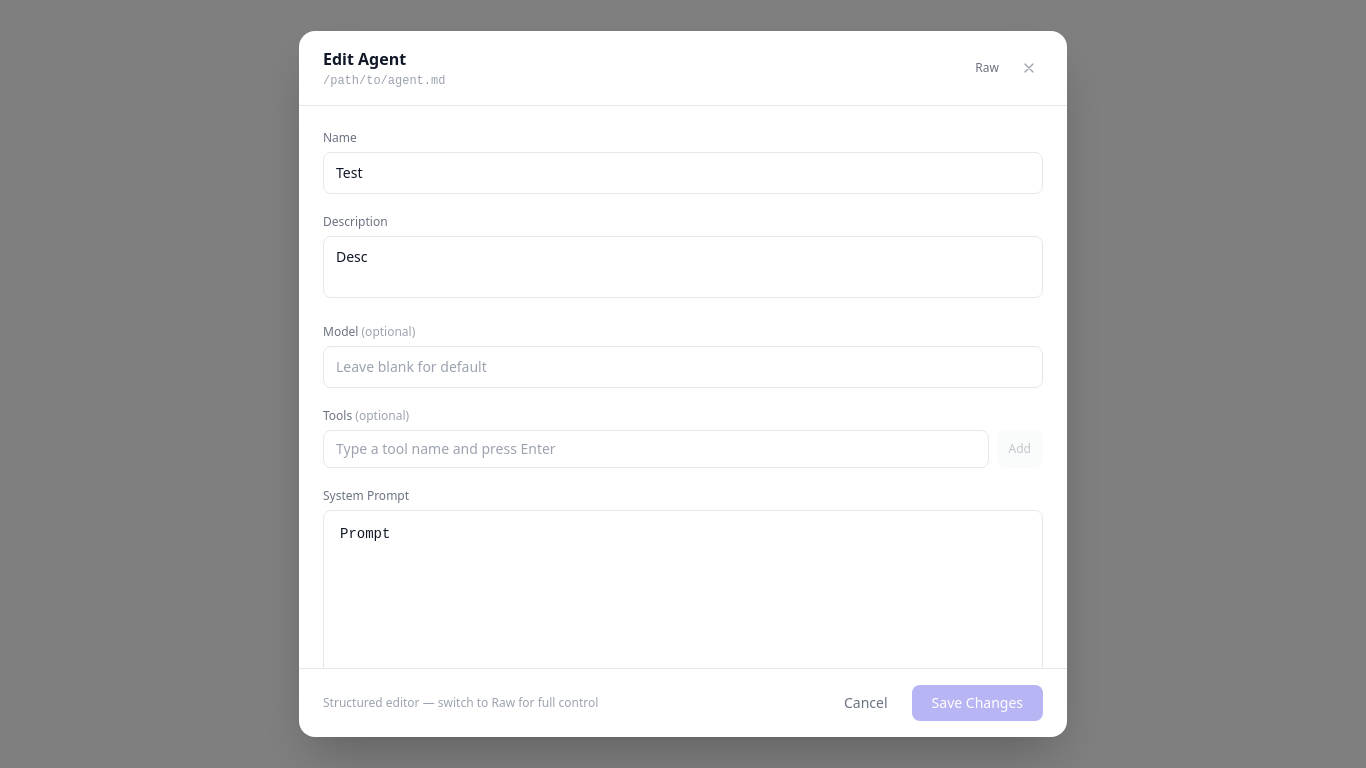
AgentEditor › can toggle between raw and structured mode
Check: the field showing "Test" is shown, box [323,152,1043,194]
Switch to raw
Click the button "Raw" at (987, 68), box [967,56,1007,80]
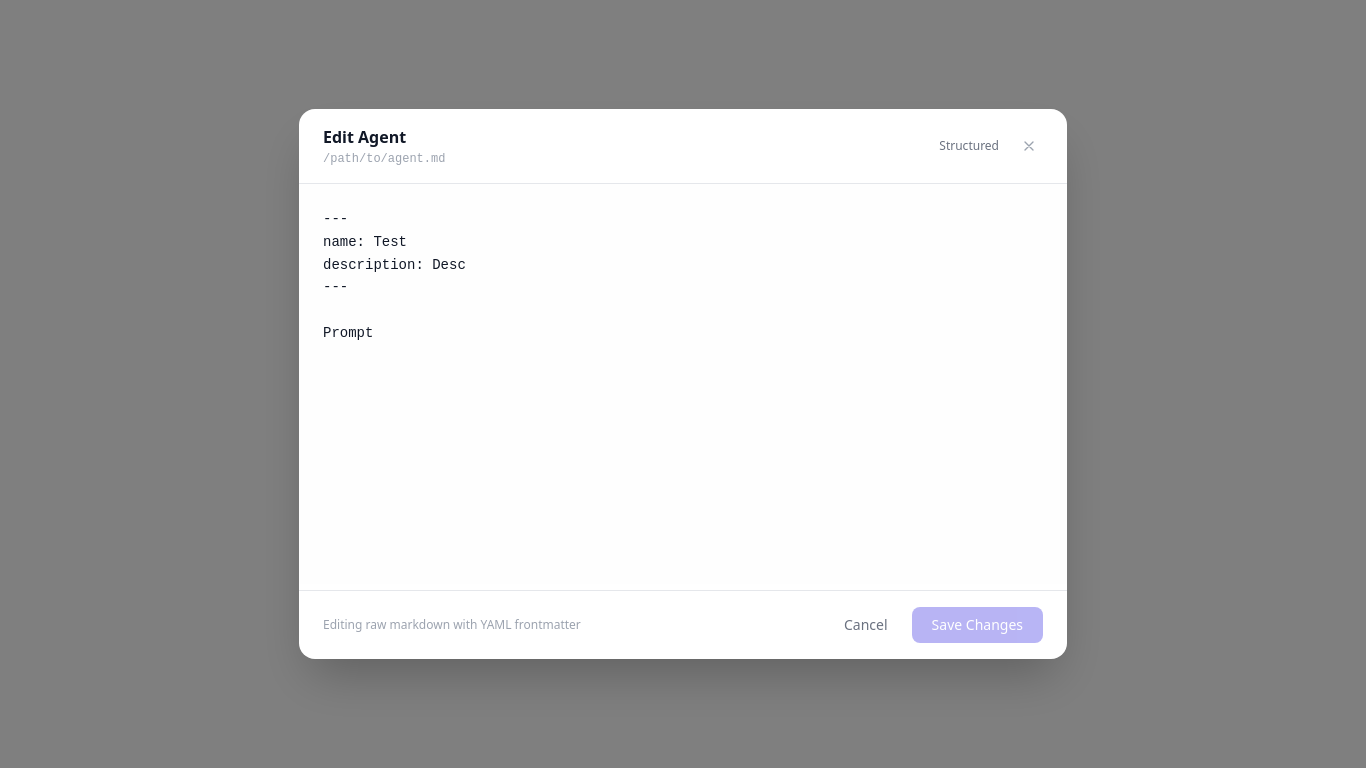
Check: the text "Editing raw markdown with YAML frontmatter" is shown, box [323,617,581,633]
Switch back
Click the button "Structured" at (969, 146), box [931,134,1007,158]
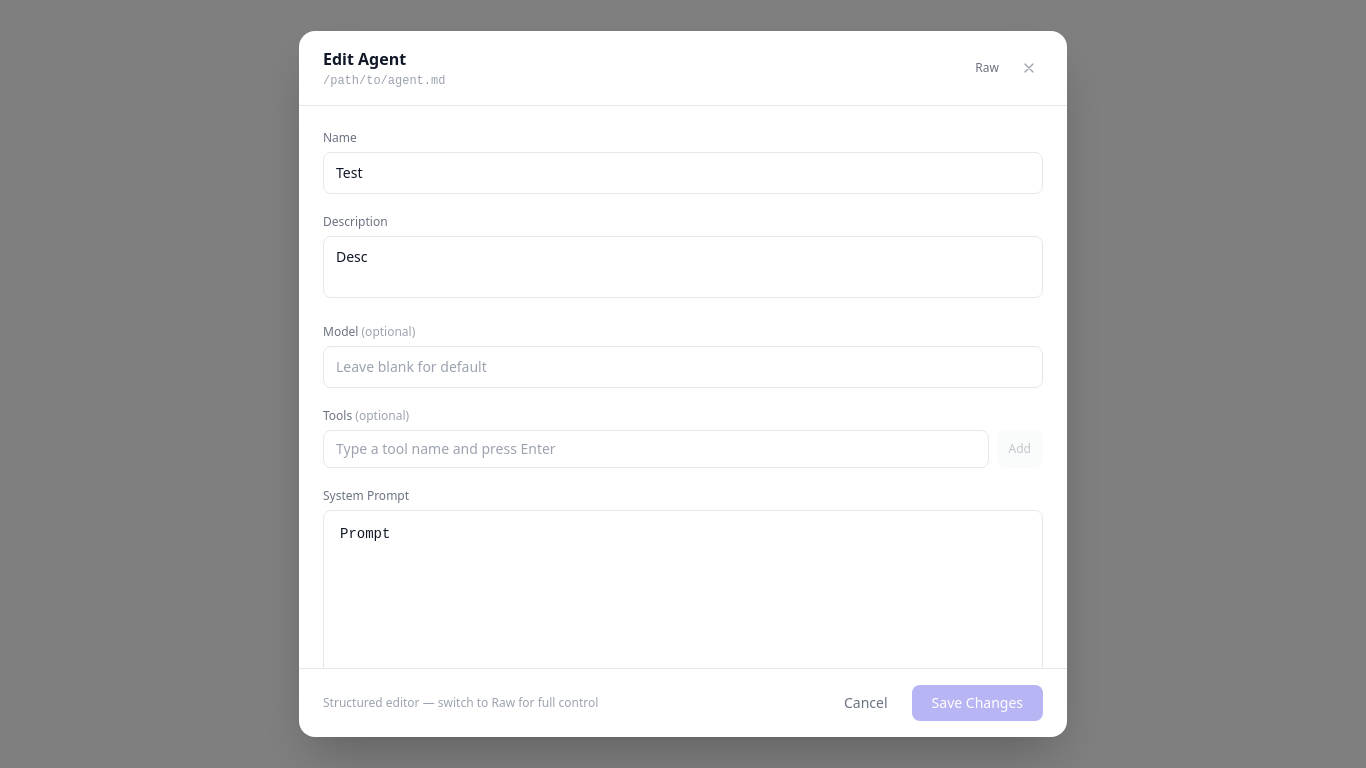
Check: the text "Structured editor — switch to Raw for full control" is shown, box [323,695,598,711]
